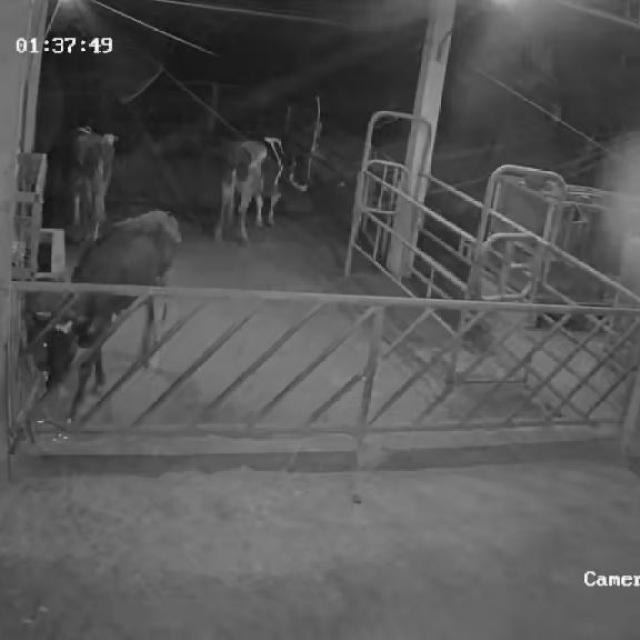standing: (38, 205, 180, 421), (207, 130, 312, 250), (43, 119, 120, 245)
